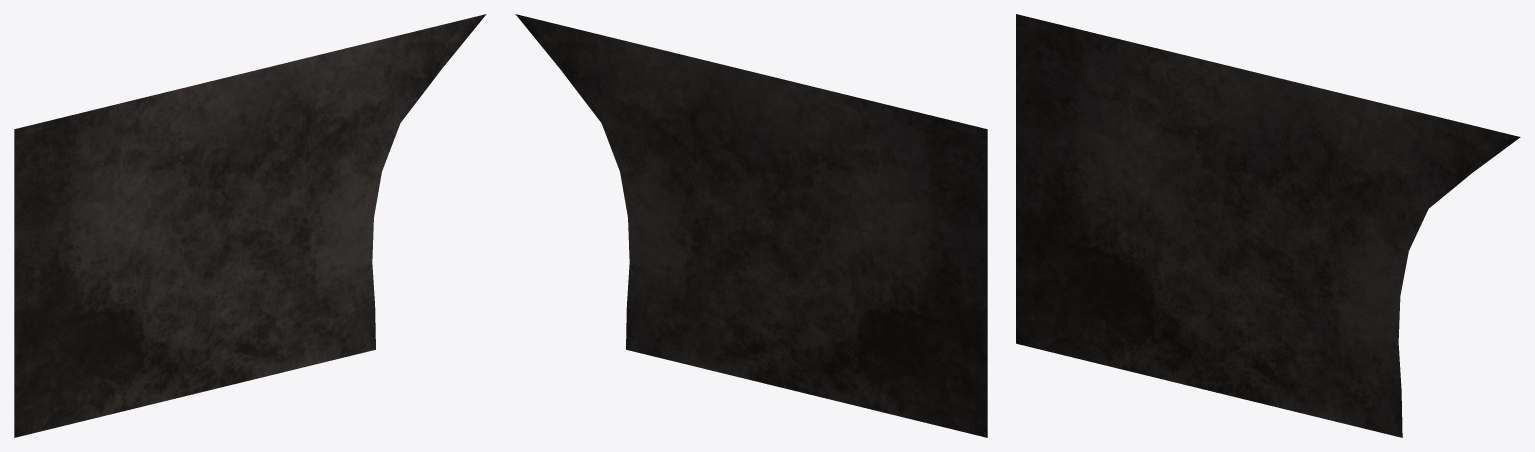
The model's file is wall_lieft.FBX.
The picture shows the model from 3 angles, left to right: view 1: azimuth 30°, elevation 25°; view 2: azimuth 150°, elevation 25°; view 3: azimuth 330°, elevation 25°; orthographic projection. The views are drawn at different scales.
Parts seen in each view (by area): view 1: Plane011; view 2: Plane011; view 3: Plane011.
Boxes of the visible parts, bbox=[...] form: Plane011: bbox=[14, 14, 486, 437]; Plane011: bbox=[515, 14, 987, 437]; Plane011: bbox=[1016, 14, 1520, 437].
Size of the model in its own units: 2822 by 0.000529 by 1762.
